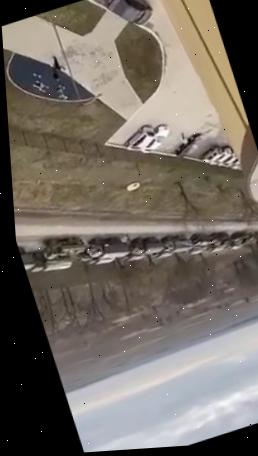car: (100, 0, 157, 34), (134, 122, 173, 155), (120, 122, 158, 153), (170, 131, 208, 159), (204, 144, 233, 167), (197, 142, 224, 164)
truck: (24, 242, 73, 279), (37, 228, 87, 264), (84, 228, 130, 265), (76, 240, 116, 271), (127, 231, 164, 260), (160, 230, 193, 256), (205, 229, 233, 253), (227, 225, 253, 249), (17, 242, 36, 272), (188, 228, 210, 249), (181, 243, 207, 258), (122, 249, 144, 264), (152, 246, 173, 261), (247, 228, 258, 246)
